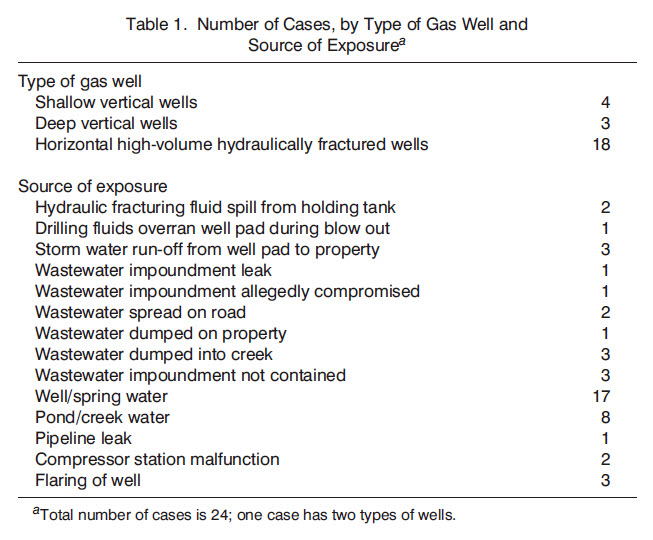fracking table: (2, 2, 653, 506)
